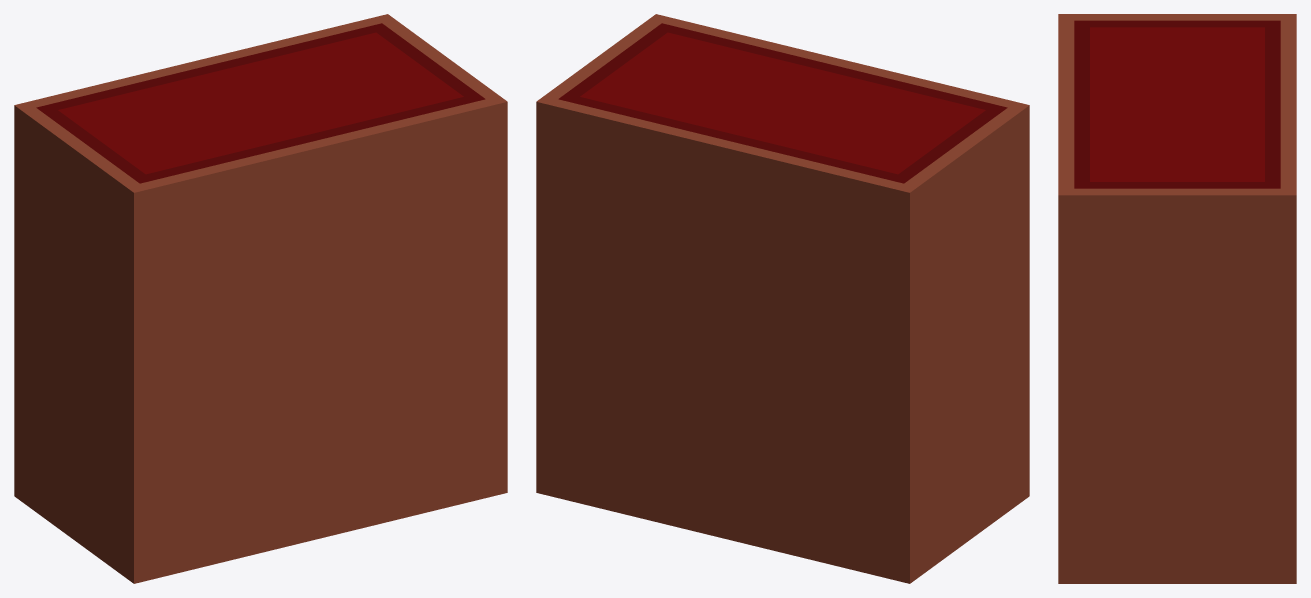
The model's file is pared.obj.
The picture shows the model from 3 angles, left to right: view 1: azimuth 30°, elevation 25°; view 2: azimuth 150°, elevation 25°; view 3: azimuth 270°, elevation 25°; orthographic projection.
Bounding box in the file's own units: 2.7 × 2.7 × 1.5.
